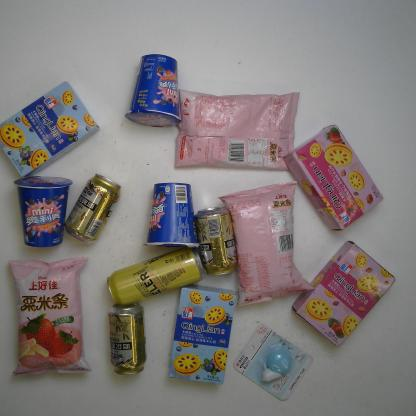Alcohol: (106, 244, 207, 308), (63, 172, 125, 248), (193, 205, 240, 278), (107, 301, 148, 376)
Dessert: (290, 238, 397, 349), (281, 122, 385, 233), (2, 79, 102, 179), (167, 282, 237, 388), (122, 52, 184, 131), (14, 172, 74, 248), (142, 182, 203, 251)
Puffed Food: (217, 180, 314, 309), (5, 257, 96, 378), (172, 87, 301, 171)
Stationery: (231, 321, 314, 402)
